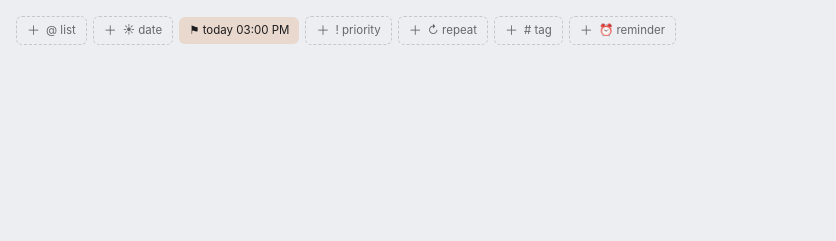
Test: what a reminder counts back from › uses the deadline when the task has no date of its own
The image size is (836, 241).
Click the button "＋ ⏰ reminder". click: (622,30)
box: left=569, top=16, right=676, bottom=45
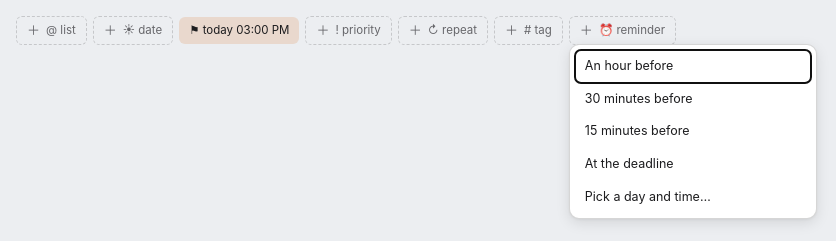
Expected: the button "At the deadline" is shown, left=575, top=148, right=811, bottom=180
Expected: the button "An hour before" is shown, left=575, top=50, right=811, bottom=83
